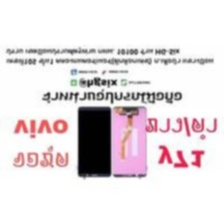phone: (109, 104, 149, 181), (74, 104, 112, 179)
